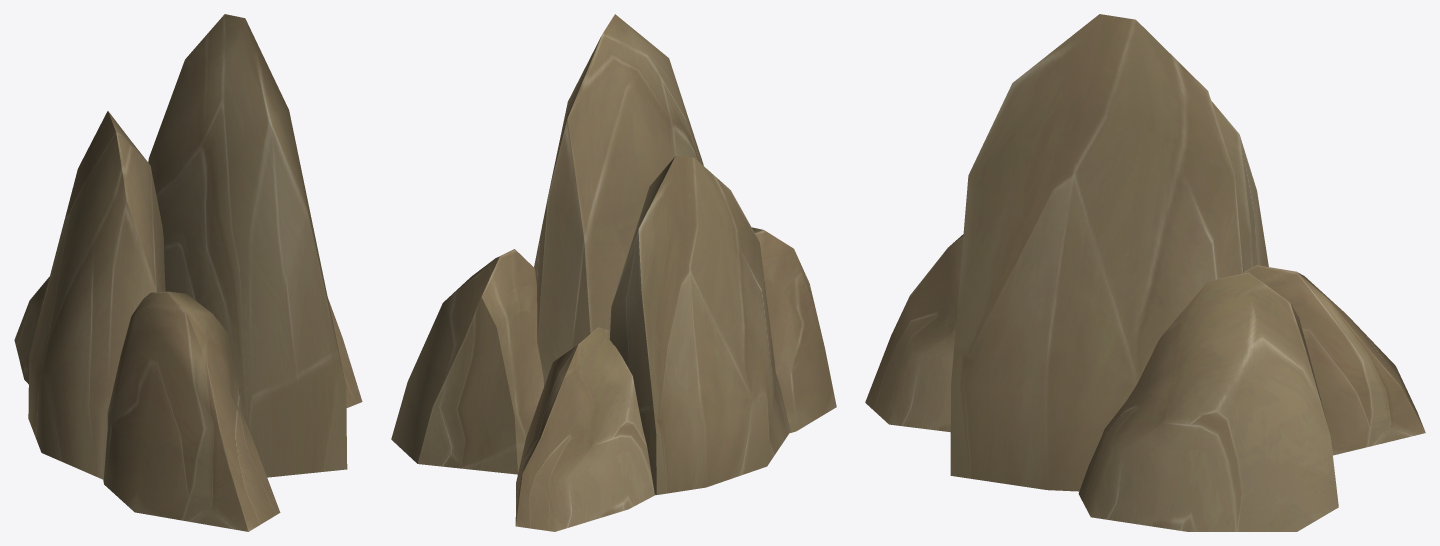
Rendered from A_CV_GEN_Rock_03.fbx.
3 renders of one model, left to right at view 1: azimuth 30°, elevation 25°; view 2: azimuth 150°, elevation 25°; view 3: azimuth 270°, elevation 25°, orthographic. The views are drawn at different scales.
Parts seen in each view (by area): view 1: A_CV_GEN_Rock_03; view 2: A_CV_GEN_Rock_03; view 3: A_CV_GEN_Rock_03.
Boxes of the visible parts, bbox=[...] form: A_CV_GEN_Rock_03: bbox=[14, 14, 362, 531]; A_CV_GEN_Rock_03: bbox=[391, 14, 836, 531]; A_CV_GEN_Rock_03: bbox=[865, 14, 1425, 531].
Size of the model in its own units: 323 by 392 by 449.
Materials: 1 (1 with a texture image).
